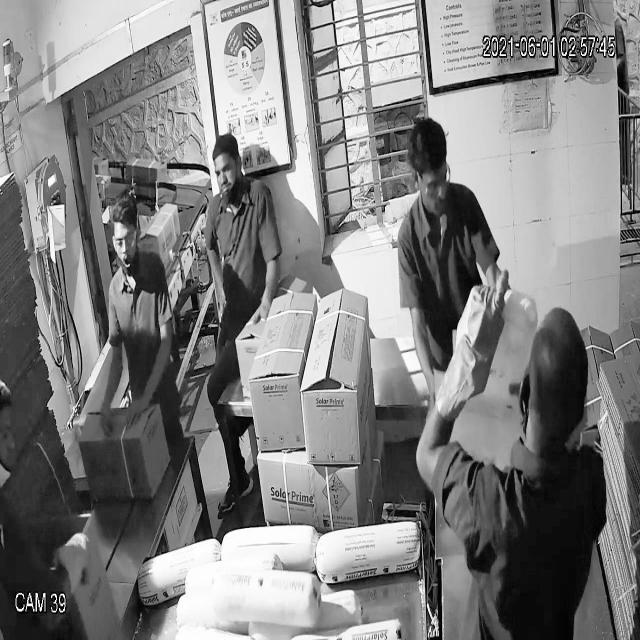hairnet: (116, 242, 142, 281), (217, 173, 244, 207)
